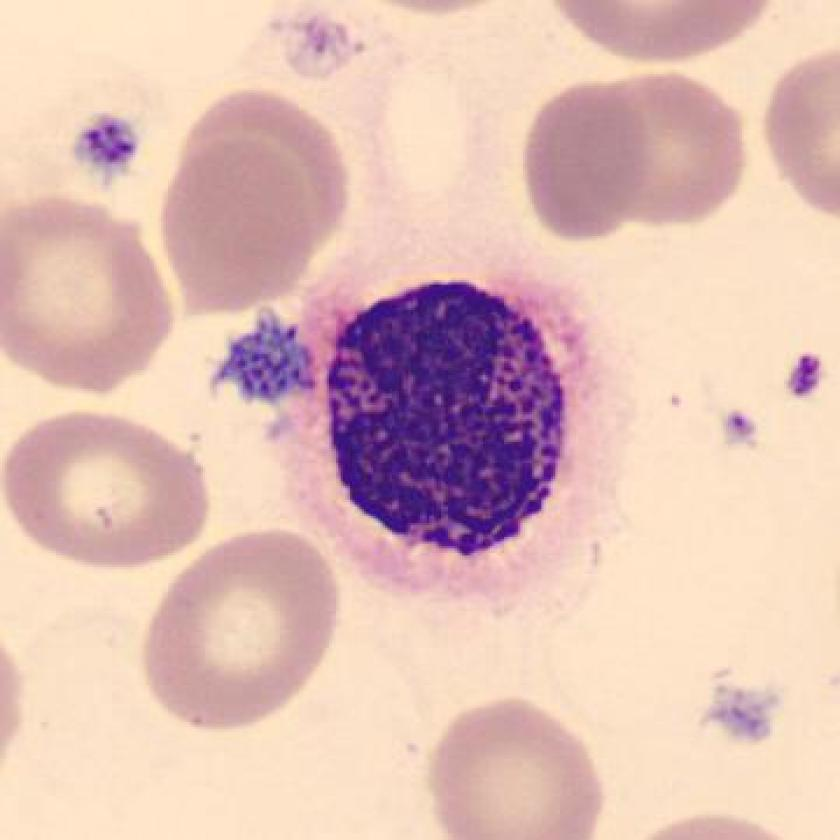basophil: (300, 263, 596, 587)
